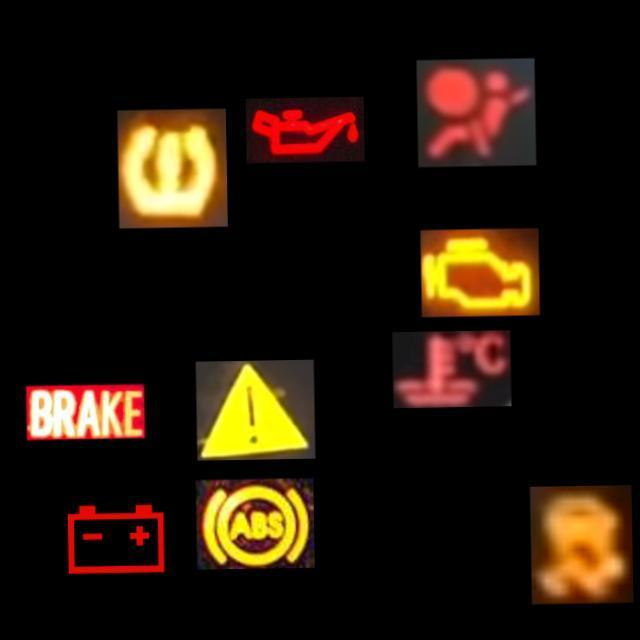Central Warning lamp: (195, 359, 315, 460)
Engine cooling system: (392, 330, 511, 408)
